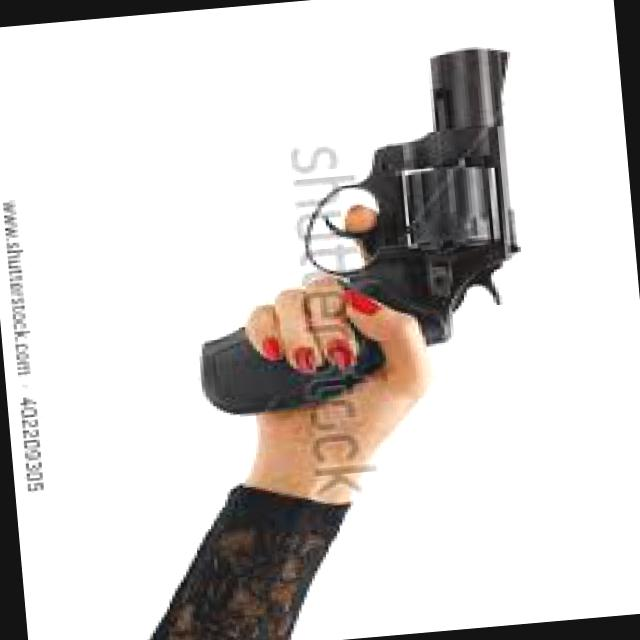handgun: (166, 33, 548, 420)
